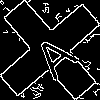A: (25, 25, 81, 81)
